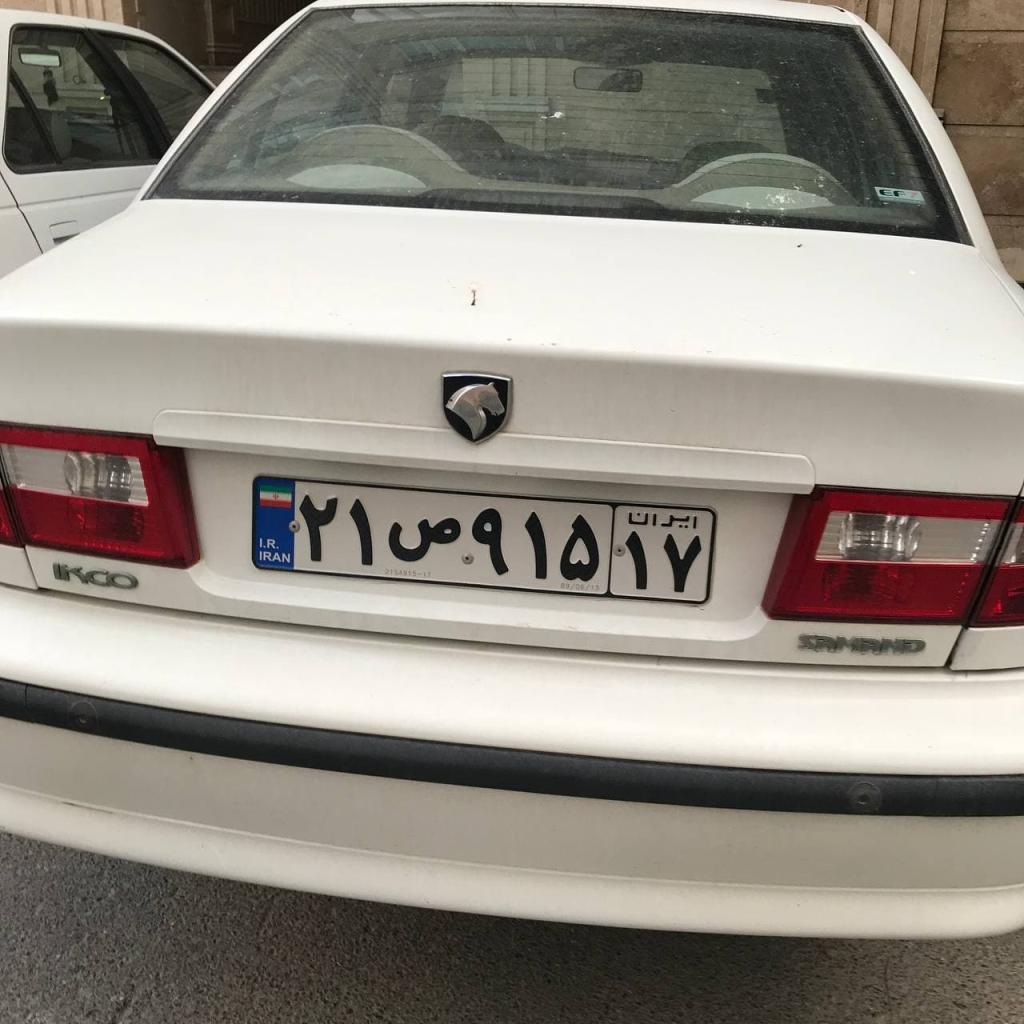Plates: (252, 474, 714, 604)
